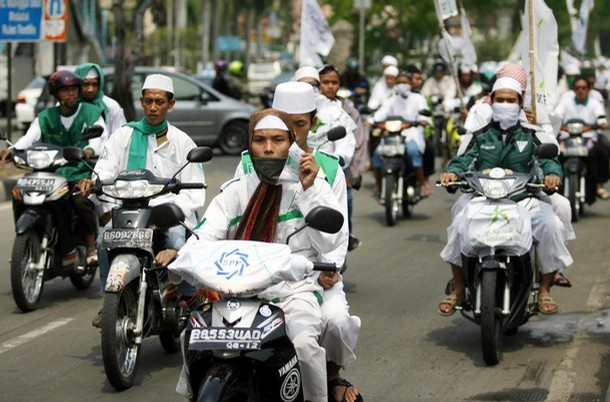plate: (190, 327, 261, 350), (103, 226, 151, 251)
